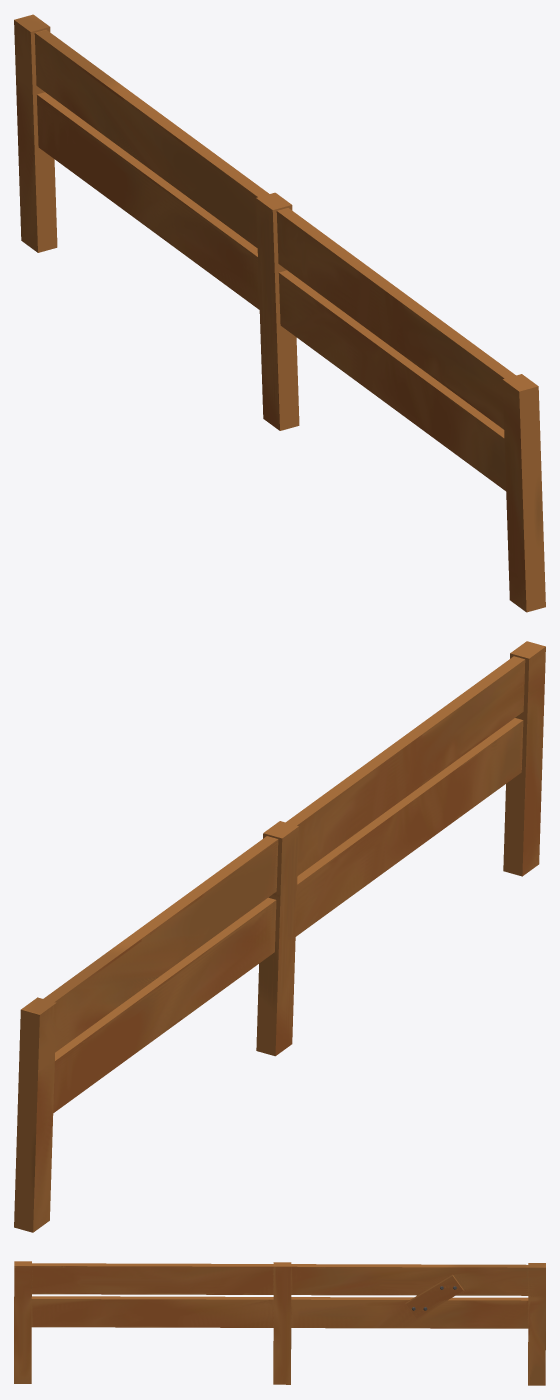
The model's file is Fence1.fbx.
3 renders of one model, top to bottom at view 1: azimuth 30°, elevation 25°; view 2: azimuth 150°, elevation 25°; view 3: azimuth 270°, elevation 25°, orthographic. The views are drawn at different scales.
Parts seen in each view (by area): view 1: Fence1_LOD0; view 2: Fence1_LOD0; view 3: Fence1_LOD0.
Boxes of the visible parts, left/top/right/bottom form: Fence1_LOD0: left=14, top=14, right=545, bottom=612; Fence1_LOD0: left=14, top=641, right=545, bottom=1232; Fence1_LOD0: left=14, top=1261, right=545, bottom=1385.
Size of what is drawn, in the model's own units: 54.7 by 391 by 1606.
